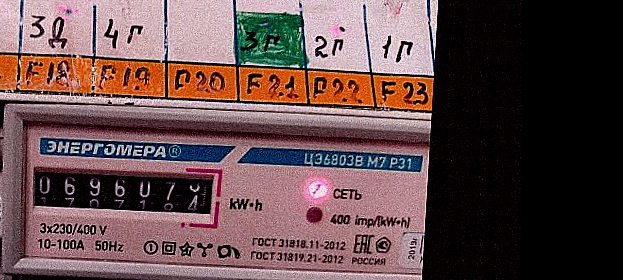0: (136, 176, 152, 199), (36, 173, 51, 195)
4: (185, 192, 200, 214)
6: (61, 174, 76, 196), (111, 177, 126, 198)
7: (161, 180, 177, 202)
9: (86, 175, 100, 197)
screen: (18, 155, 227, 226)
